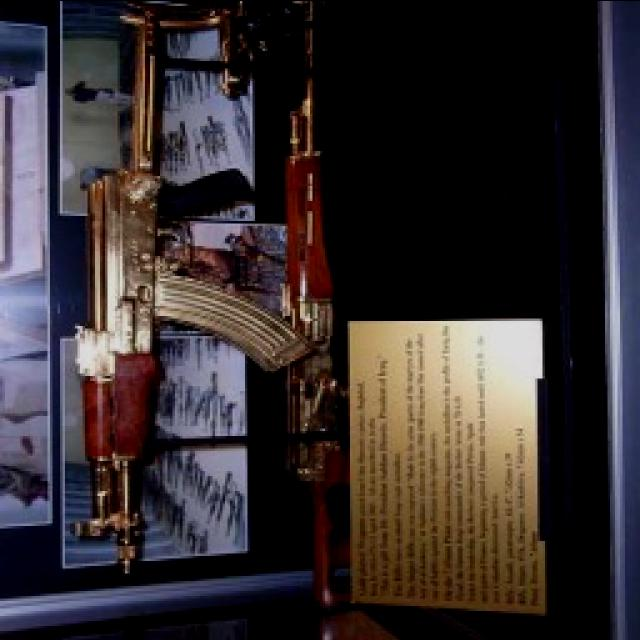long weapon: (56, 9, 246, 587)
